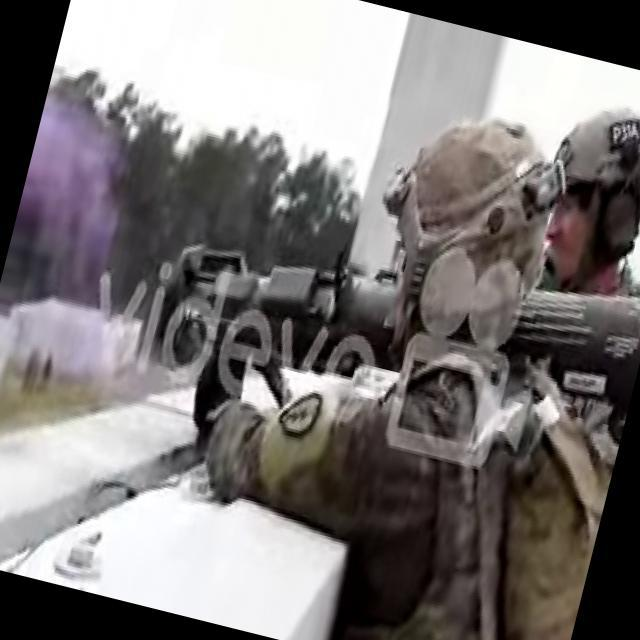rocket: (148, 212, 406, 402)
